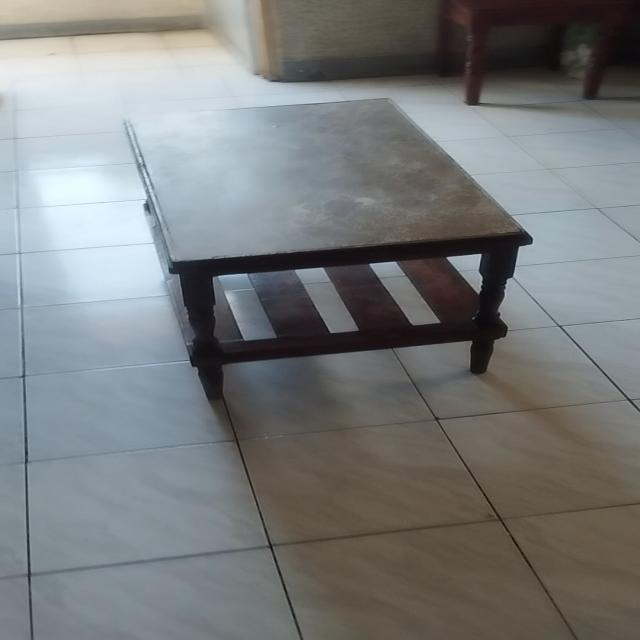table: (113, 96, 531, 402)
